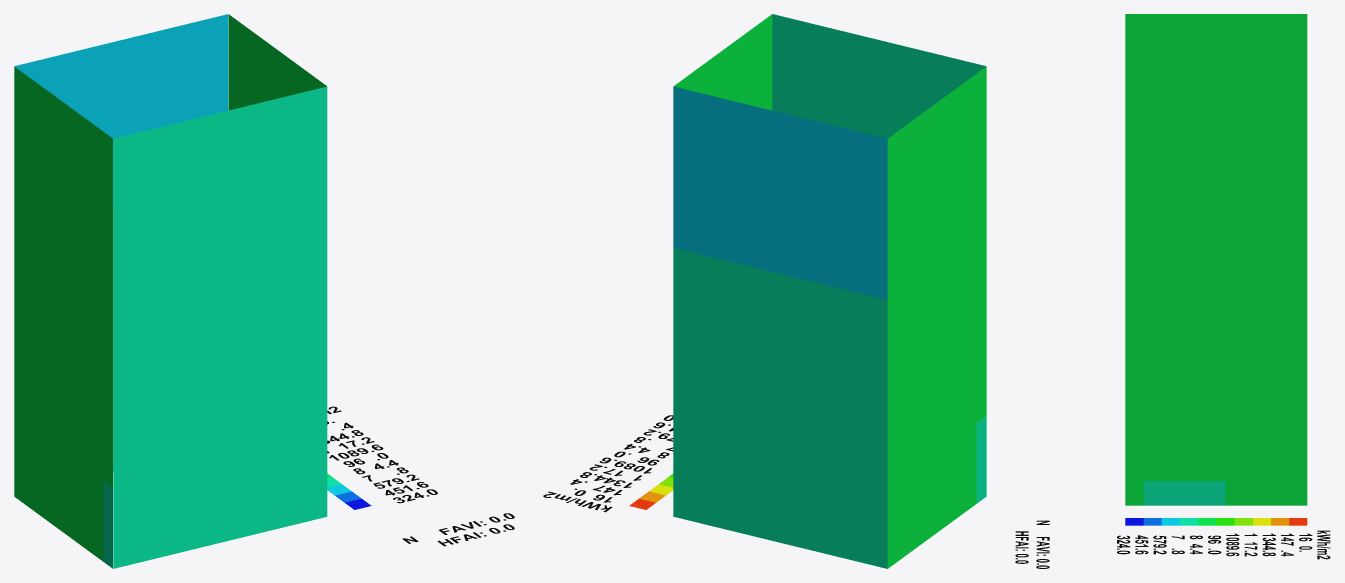
The model's file is example1_part_nshfavi.dae.
3 renders of one model, left to right at view 1: azimuth 30°, elevation 25°; view 2: azimuth 150°, elevation 25°; view 3: azimuth 270°, elevation 25°, orthographic. The views are drawn at different scales.
Visible parts, largest first — view 1: node0 (×4); view 2: node0 (×4); view 3: node0 (×3).
Part boxes in pixels (x1,y1,x2,y2): node0 (×4): [14, 14, 514, 568]; node0 (×4): [543, 14, 986, 568]; node0 (×3): [1015, 14, 1330, 568].
Bounding box in the file's own units: 41.46 × 34.66 × 48.
